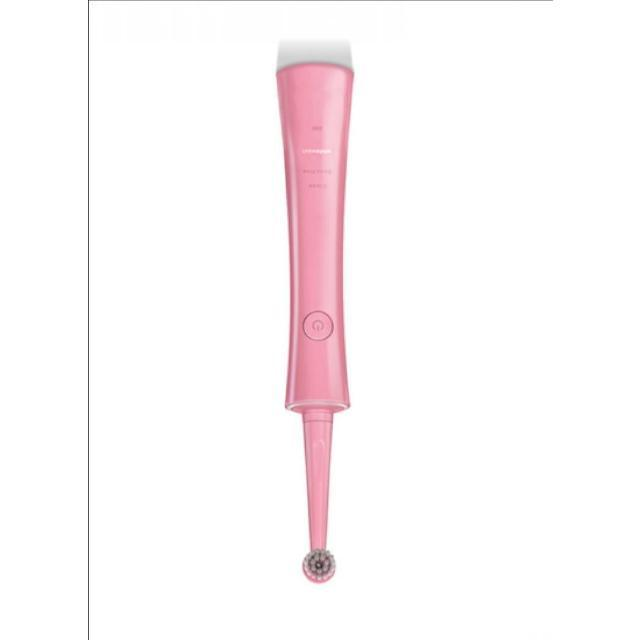toothbrush: (248, 28, 362, 610)
